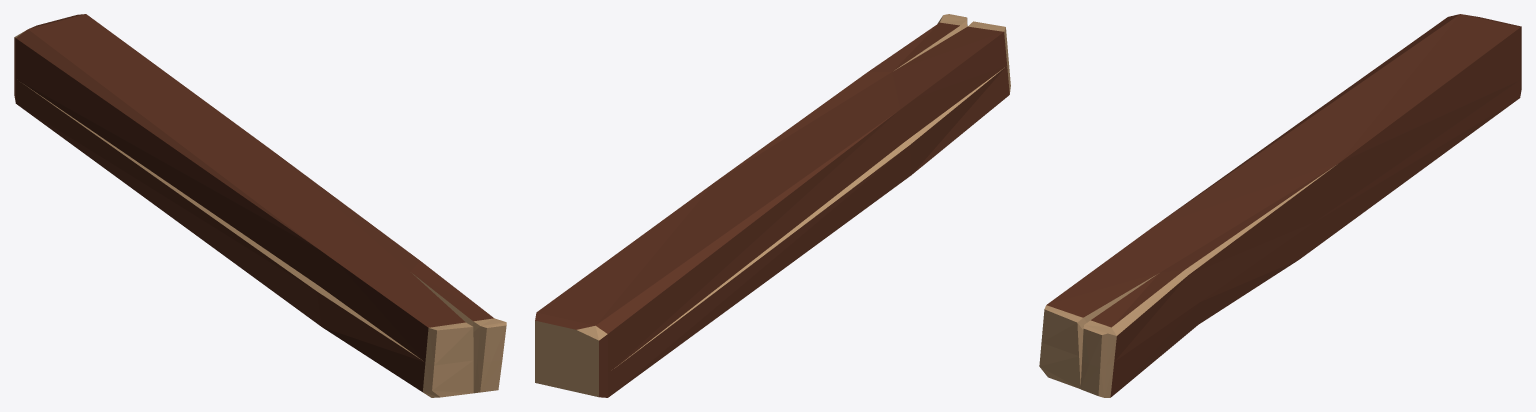
File: MCastle_LgtWoodFlr_03.FBX
3 views of the same model, side by side, from view 1: azimuth 30°, elevation 25°; view 2: azimuth 150°, elevation 25°; view 3: azimuth 330°, elevation 25° (orthographic). The views are drawn at different scales.
Parts seen in each view (by area): view 1: MCastle_LgtWoodFlr_03; view 2: MCastle_LgtWoodFlr_03; view 3: MCastle_LgtWoodFlr_03.
Part boxes in pixels (<box>): MCastle_LgtWoodFlr_03: <box>14,14,506,397</box>; MCastle_LgtWoodFlr_03: <box>535,14,1010,397</box>; MCastle_LgtWoodFlr_03: <box>1039,14,1521,397</box>.
Size of the model in its own units: 0.4262 by 0.4047 by 3.99.
